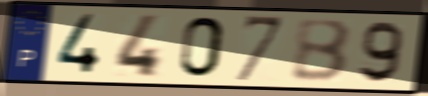0: (177, 15, 226, 81)
4: (113, 13, 165, 80), (55, 11, 103, 77)
7: (234, 14, 288, 84)
9: (356, 20, 406, 85)
B: (290, 18, 354, 85)
